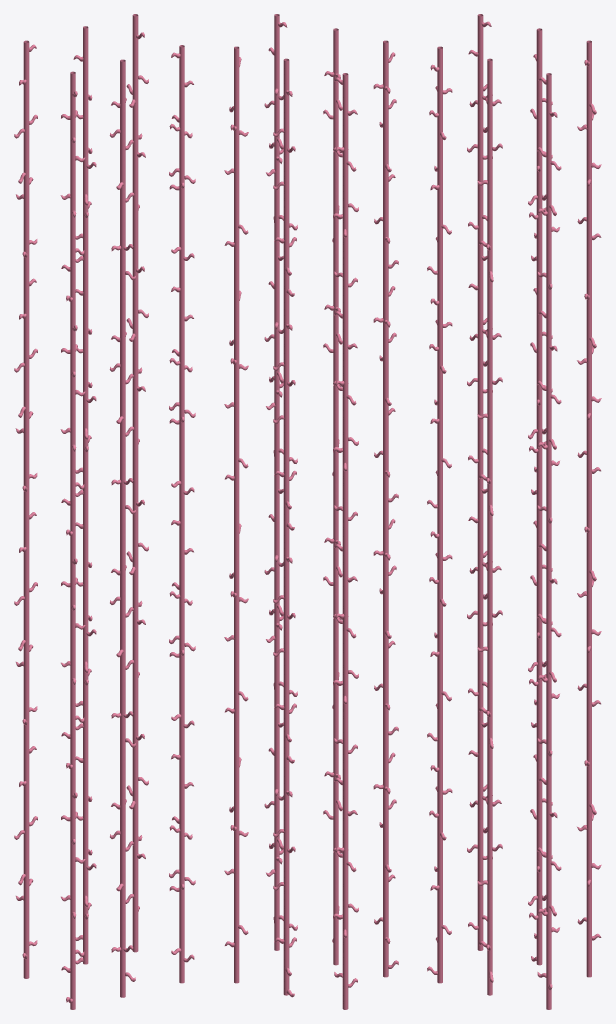
The model's file is treesfix5.fbx.
3 views of the same model, side by side, from view 1: azimuth 30°, elevation 25°; view 2: azimuth 150°, elevation 25°; view 3: azimuth 330°, elevation 25° (orthographic).
Parts seen in each view (by area): view 1: Tree 3.001, Tree 1.001, Tree 6.002, Tree 5.001, Tree 4.001, Tree 2.001; view 2: Tree 3.001, Tree 2.001, Tree 4.001, Tree 1.001, Tree 6.002, Tree 5.001; view 3: Tree 3.001, Tree 2.001, Tree 6.002, Tree 4.001, Tree 1.001, Tree 5.001.
Boxes of the visible parts, x1,y1,x2,y2 form: Tree 3.001: (14, 40, 37, 978); Tree 1.001: (125, 14, 148, 952); Tree 6.002: (169, 45, 195, 983); Tree 5.001: (109, 59, 135, 997); Tree 4.001: (60, 71, 85, 1009); Tree 2.001: (73, 26, 96, 964); Tree 3.001: (333, 73, 358, 1009); Tree 2.001: (273, 58, 297, 997); Tree 4.001: (373, 40, 398, 977); Tree 1.001: (224, 46, 248, 983); Tree 6.002: (264, 14, 287, 950); Tree 5.001: (323, 28, 348, 965); Tree 3.001: (467, 14, 492, 950); Tree 2.001: (528, 28, 552, 965); Tree 6.002: (537, 73, 561, 1009); Tree 4.001: (427, 46, 452, 983); Tree 1.001: (577, 40, 601, 977); Tree 5.001: (477, 58, 502, 995).
Size of the model in its own units: 450 by 328 by 2992.
